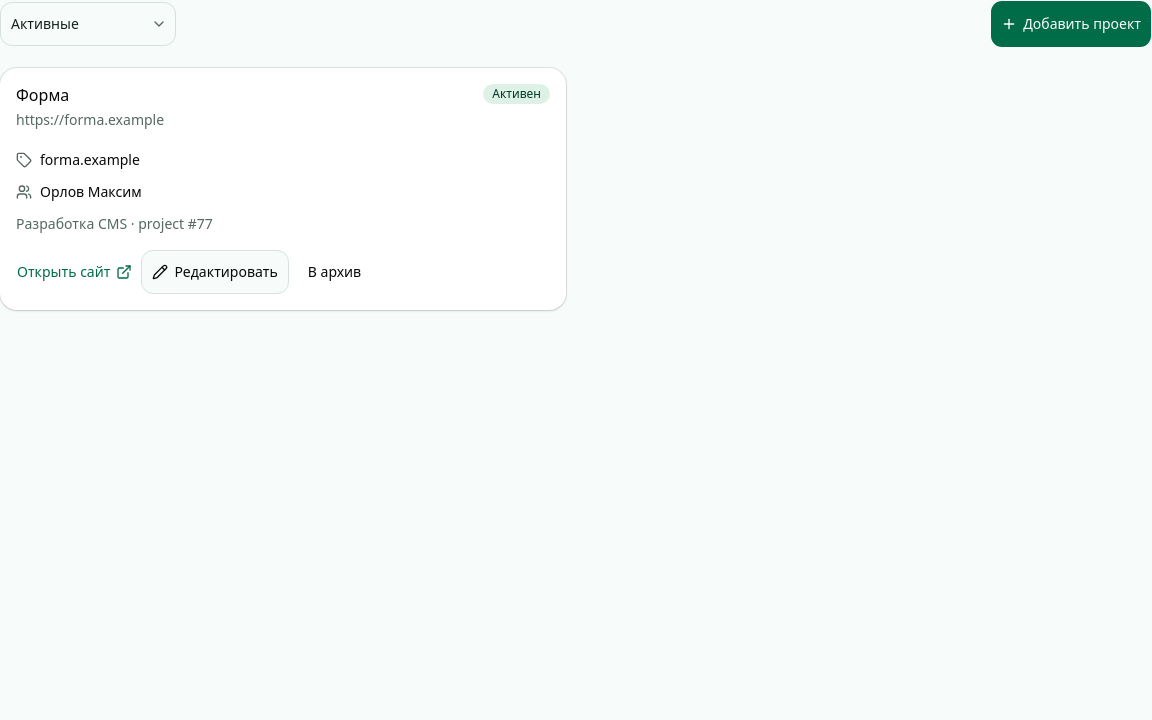
Test case: project management › unlocks search and preserves form values when a search request is rejected
Click the button "Редактировать" at (215, 272), box [141,250,289,294]
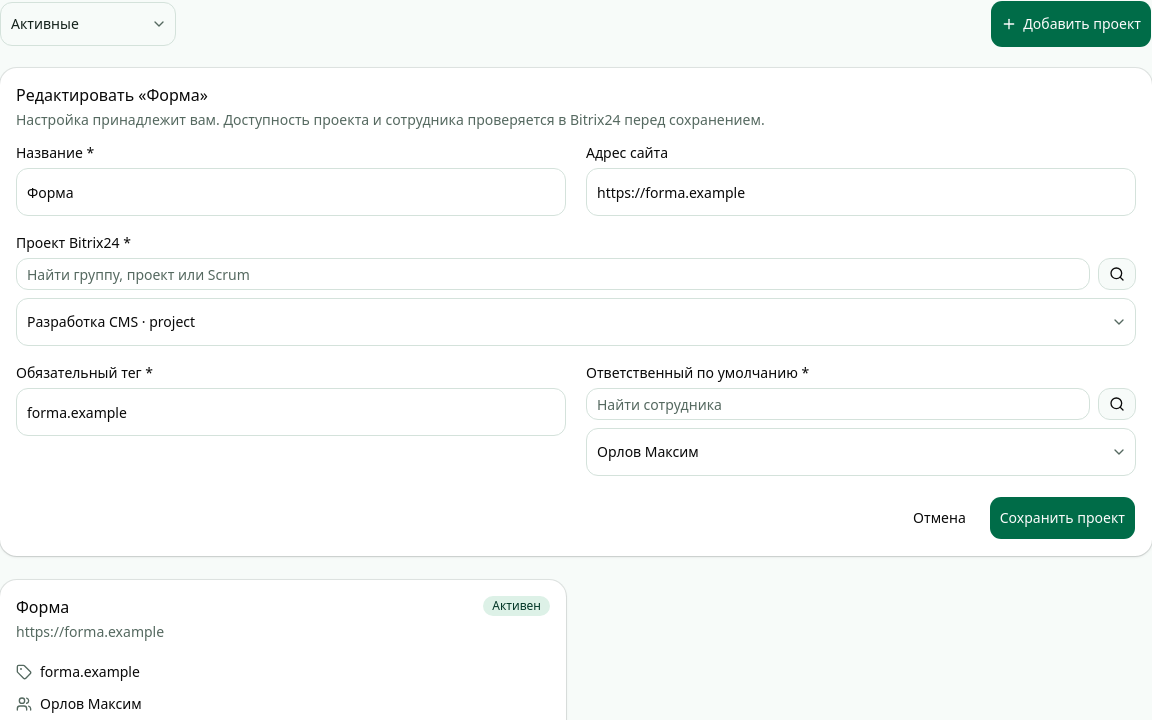
Replace the text in the field labelled "Название *" with "Черновик поиска" at (291, 192), box [16,168,566,216]
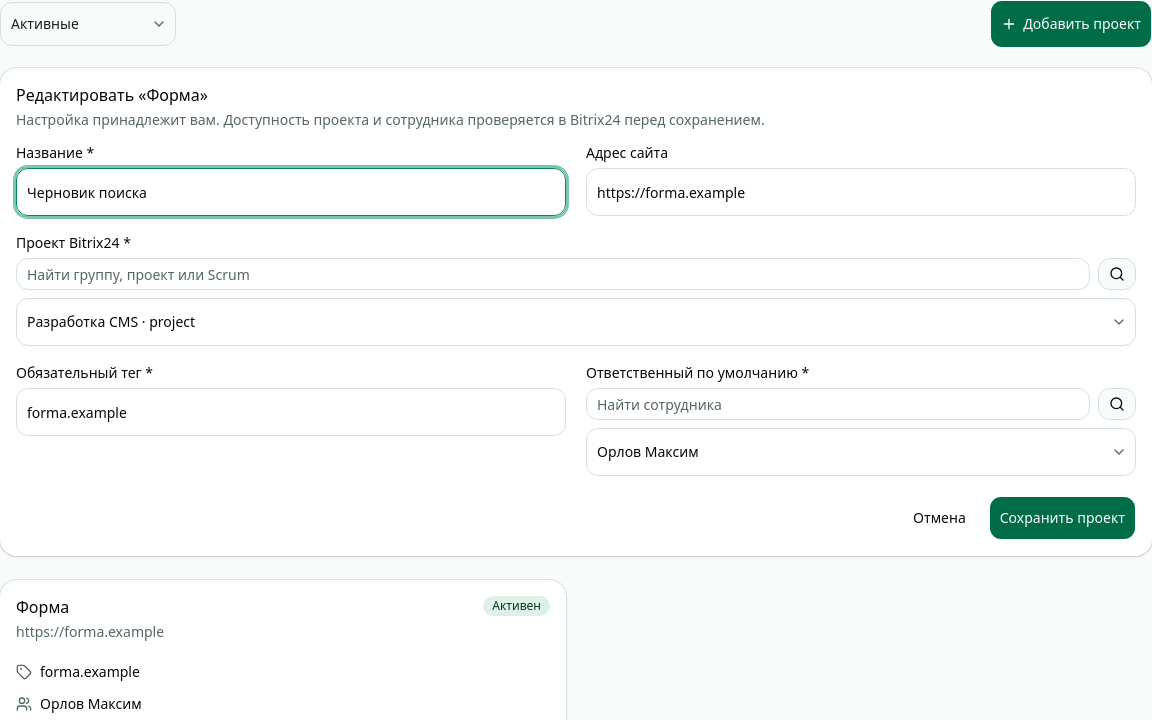
Click the button named "Найти проект Bitrix24" at (1117, 274), box [1098,258,1136,290]
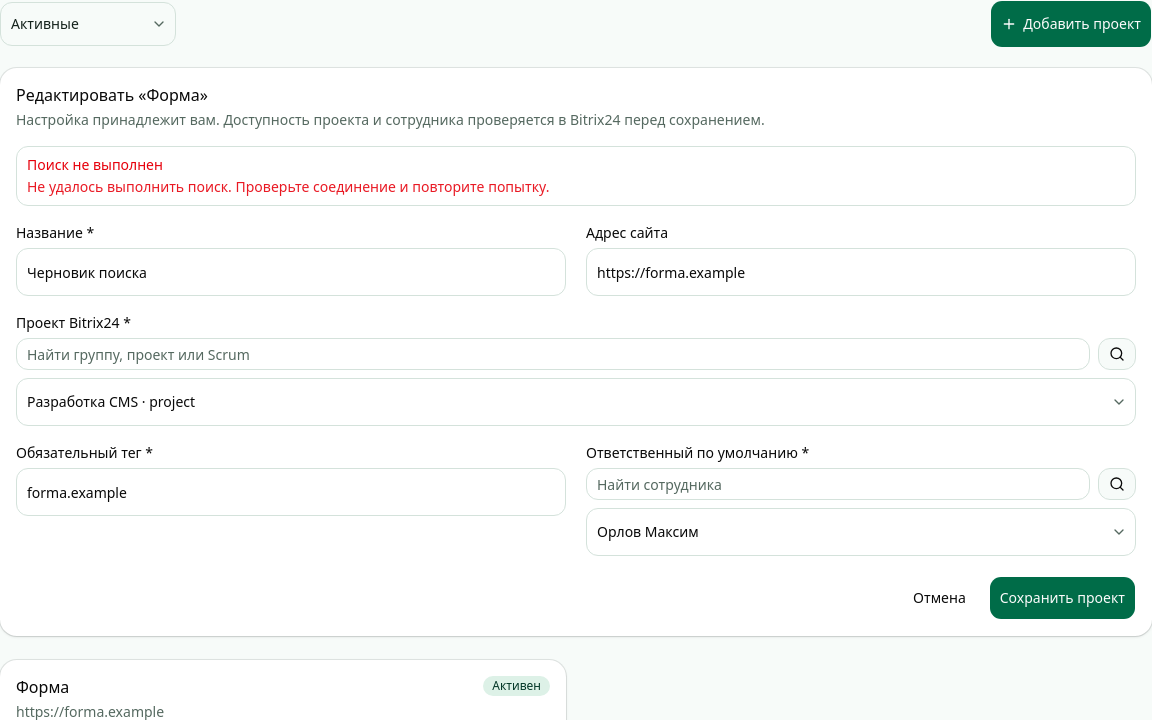
Expected: the button named "Найти проект Bitrix24" is enabled, [1098,338,1136,370]
Expected: the text "Не удалось выполнить поиск" is shown, [27,177,549,196]
